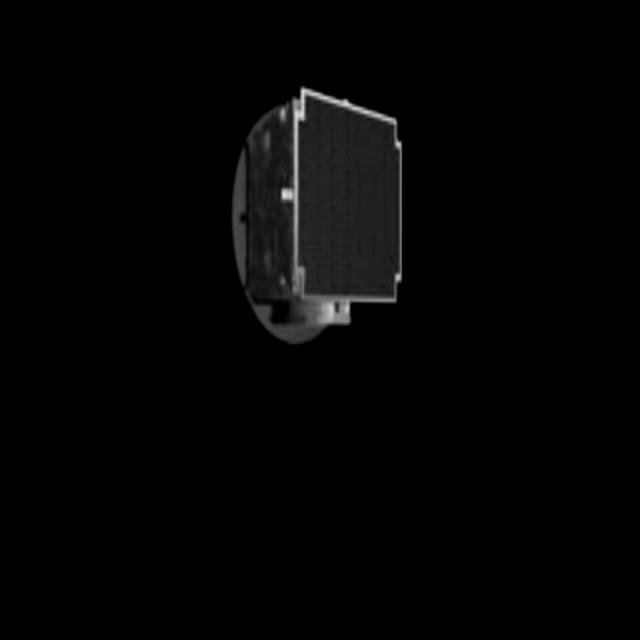satellite: (201, 68, 429, 376)
